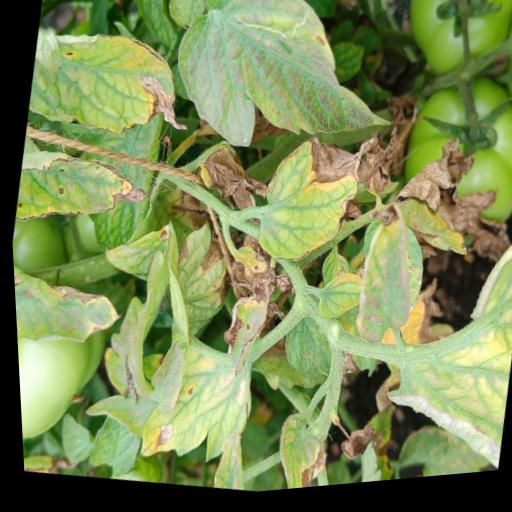Early Blight: (19, 11, 203, 157), (244, 127, 370, 279), (8, 131, 155, 246)
